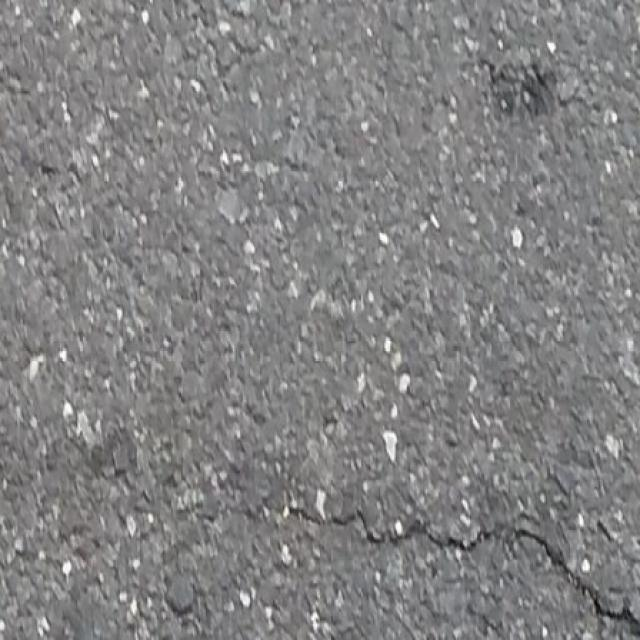Horizontal Crack: (236, 500, 640, 639)
